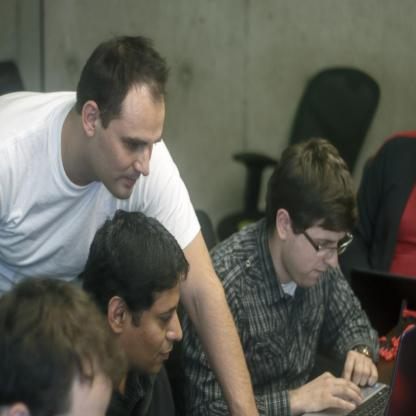board: (308, 324, 416, 416), (349, 270, 416, 337)
